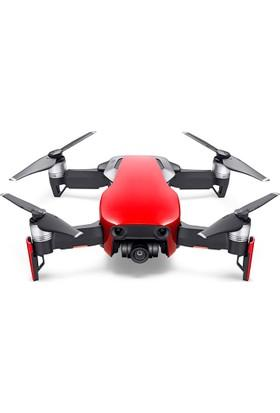drone: (9, 120, 277, 292)
